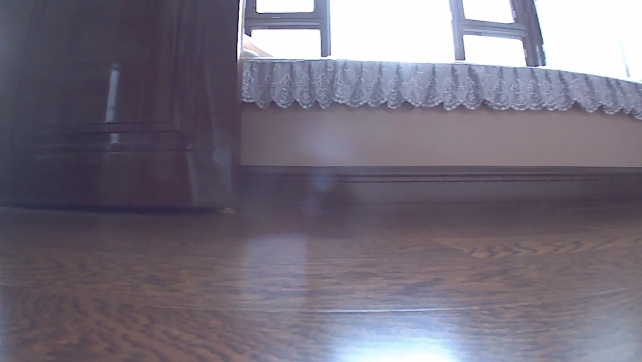bed1: (240, 32, 640, 208)
door_anno: (0, 0, 245, 219)
